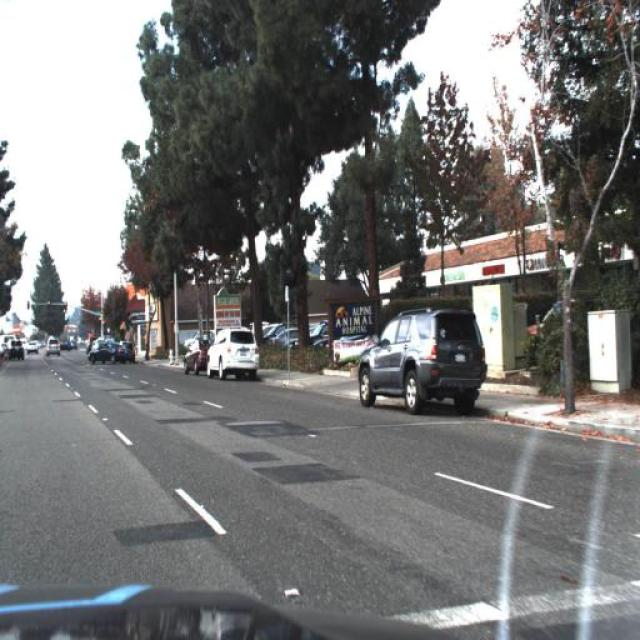car: (348, 303, 494, 419), (202, 324, 262, 385), (181, 329, 211, 383), (85, 338, 133, 371), (271, 322, 304, 350), (300, 317, 335, 343), (42, 332, 64, 360)
